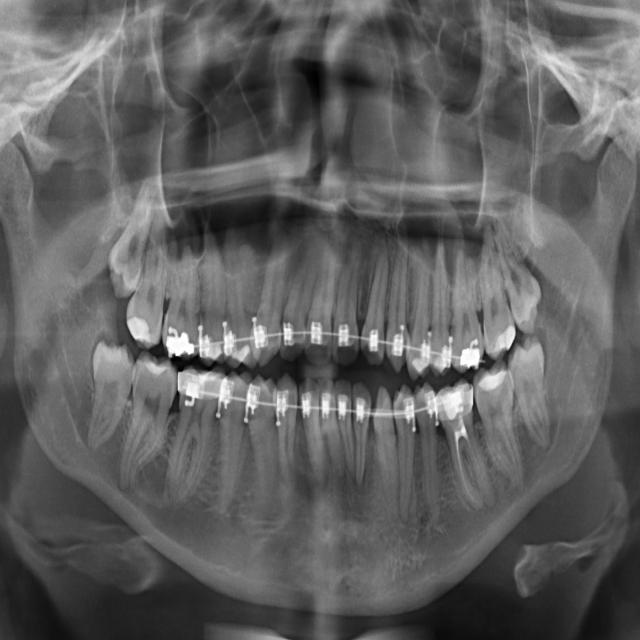AmalgamRestoration: (164, 318, 198, 359), (455, 335, 481, 371)
CompositeResinRestoration: (476, 359, 508, 395), (124, 306, 150, 346), (492, 320, 516, 360), (137, 355, 166, 388)
ImpactedTooth: (102, 189, 150, 302), (88, 335, 132, 446), (511, 338, 546, 453)
RootCanalTreatment: (448, 410, 489, 527)
